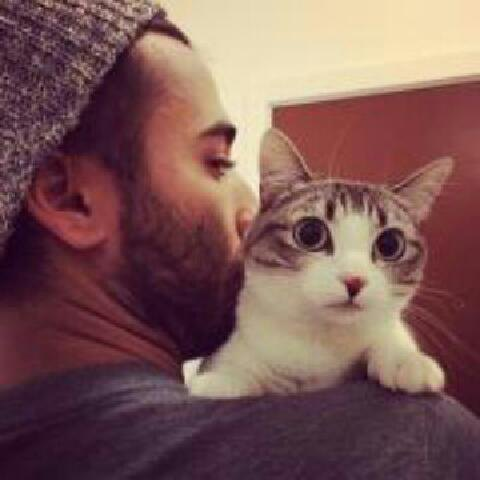cat: (240, 134, 459, 339)
